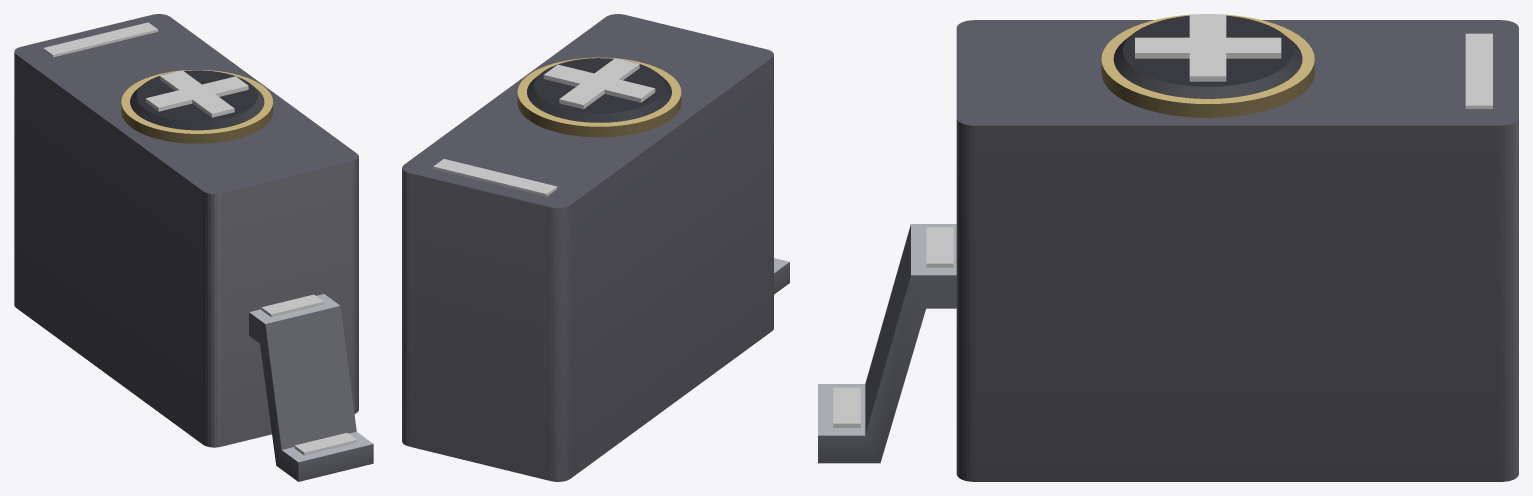
File: pin_capacitor.glb
3 renders of one model, left to right at view 1: azimuth 30°, elevation 25°; view 2: azimuth 150°, elevation 25°; view 3: azimuth 270°, elevation 25°, orthographic. The views are drawn at different scales.
Parts seen in each view (by area): view 1: Korpus, Licht, Seltenheit; view 2: Korpus, Licht; view 3: Korpus, Licht, Seltenheit.
Boxes of the visible parts, x1,y1,x2,y2 form: Korpus: (14,14,373,481); Licht: (43,22,356,455); Seltenheit: (261,294,323,317); Korpus: (402,14,789,481); Licht: (433,58,655,196); Korpus: (818,14,1518,481); Licht: (833,14,1492,427); Seltenheit: (926,227,953,267).
Bounding box in the file's own units: 0.82 × 1.42 × 2.3.
